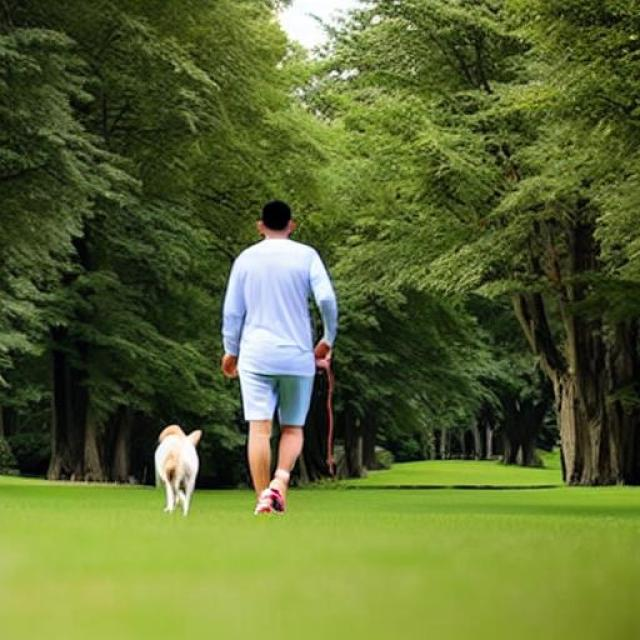Unleashed_Dog: (155, 346, 310, 517)
